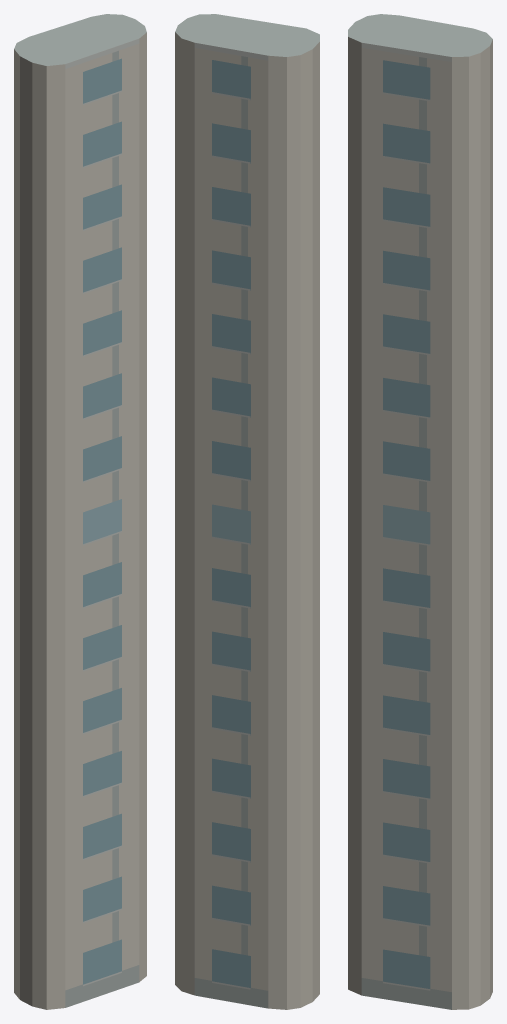
Rendered from survey-upis-32922701.glb.
3 views of the same model, side by side, from view 1: azimuth 30°, elevation 25°; view 2: azimuth 150°, elevation 25°; view 3: azimuth 330°, elevation 25° (orthographic).
Parts seen in each view (by area): view 1: survey-upis-32922701.tmp; view 2: survey-upis-32922701.tmp; view 3: survey-upis-32922701.tmp.
Boxes of the visible parts, left/top/right/bottom form: survey-upis-32922701.tmp: left=14, top=14, right=146, bottom=1009; survey-upis-32922701.tmp: left=175, top=14, right=319, bottom=1009; survey-upis-32922701.tmp: left=348, top=14, right=492, bottom=1009.
Size of the model in its own units: 6.32 by 45.75 by 3.71.
